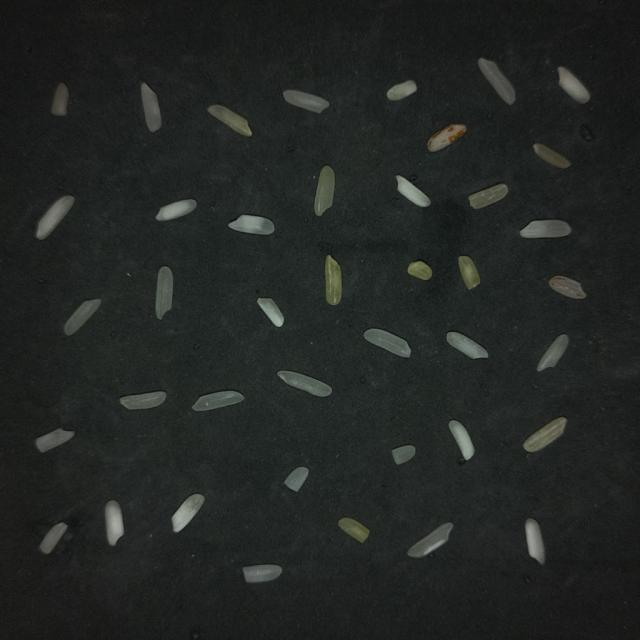broken: (396, 175, 431, 206), (39, 521, 68, 553), (35, 428, 74, 451), (325, 254, 342, 304), (242, 564, 282, 584), (51, 81, 69, 115), (387, 79, 416, 100), (284, 466, 308, 491), (392, 444, 416, 464)
chalky: (35, 195, 74, 239), (172, 493, 204, 531), (557, 66, 590, 102), (447, 331, 488, 358), (449, 419, 474, 459), (525, 518, 545, 564), (228, 214, 274, 234), (156, 198, 196, 220), (105, 499, 124, 544), (257, 297, 284, 326)
discolored: (523, 416, 567, 451), (208, 104, 252, 135), (314, 165, 334, 215), (469, 183, 508, 208), (533, 143, 570, 167), (339, 516, 369, 541), (459, 255, 480, 288), (408, 260, 433, 279)
red: (428, 123, 466, 150), (549, 275, 586, 298)
whole: (478, 57, 515, 104), (407, 521, 453, 556), (277, 370, 332, 395), (64, 298, 101, 334), (364, 328, 411, 356), (537, 333, 568, 370), (192, 390, 244, 410), (284, 89, 329, 112), (141, 82, 161, 131), (155, 265, 173, 318), (520, 219, 571, 237), (120, 390, 166, 409)
